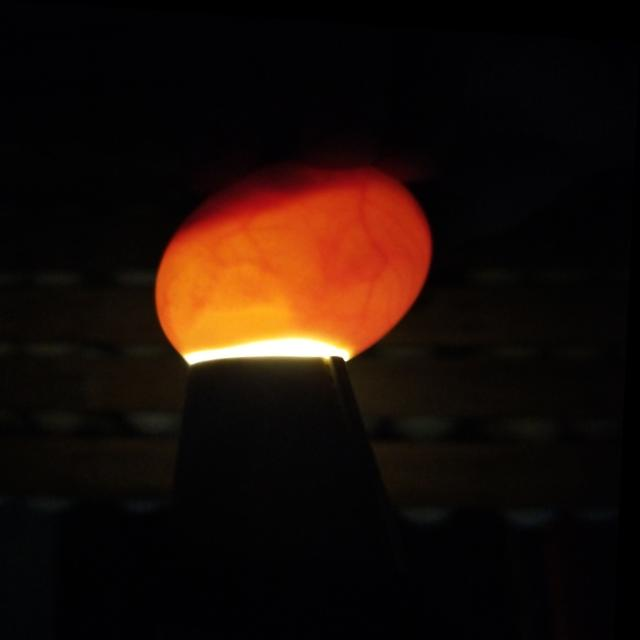Embriao: (174, 154, 415, 237)
